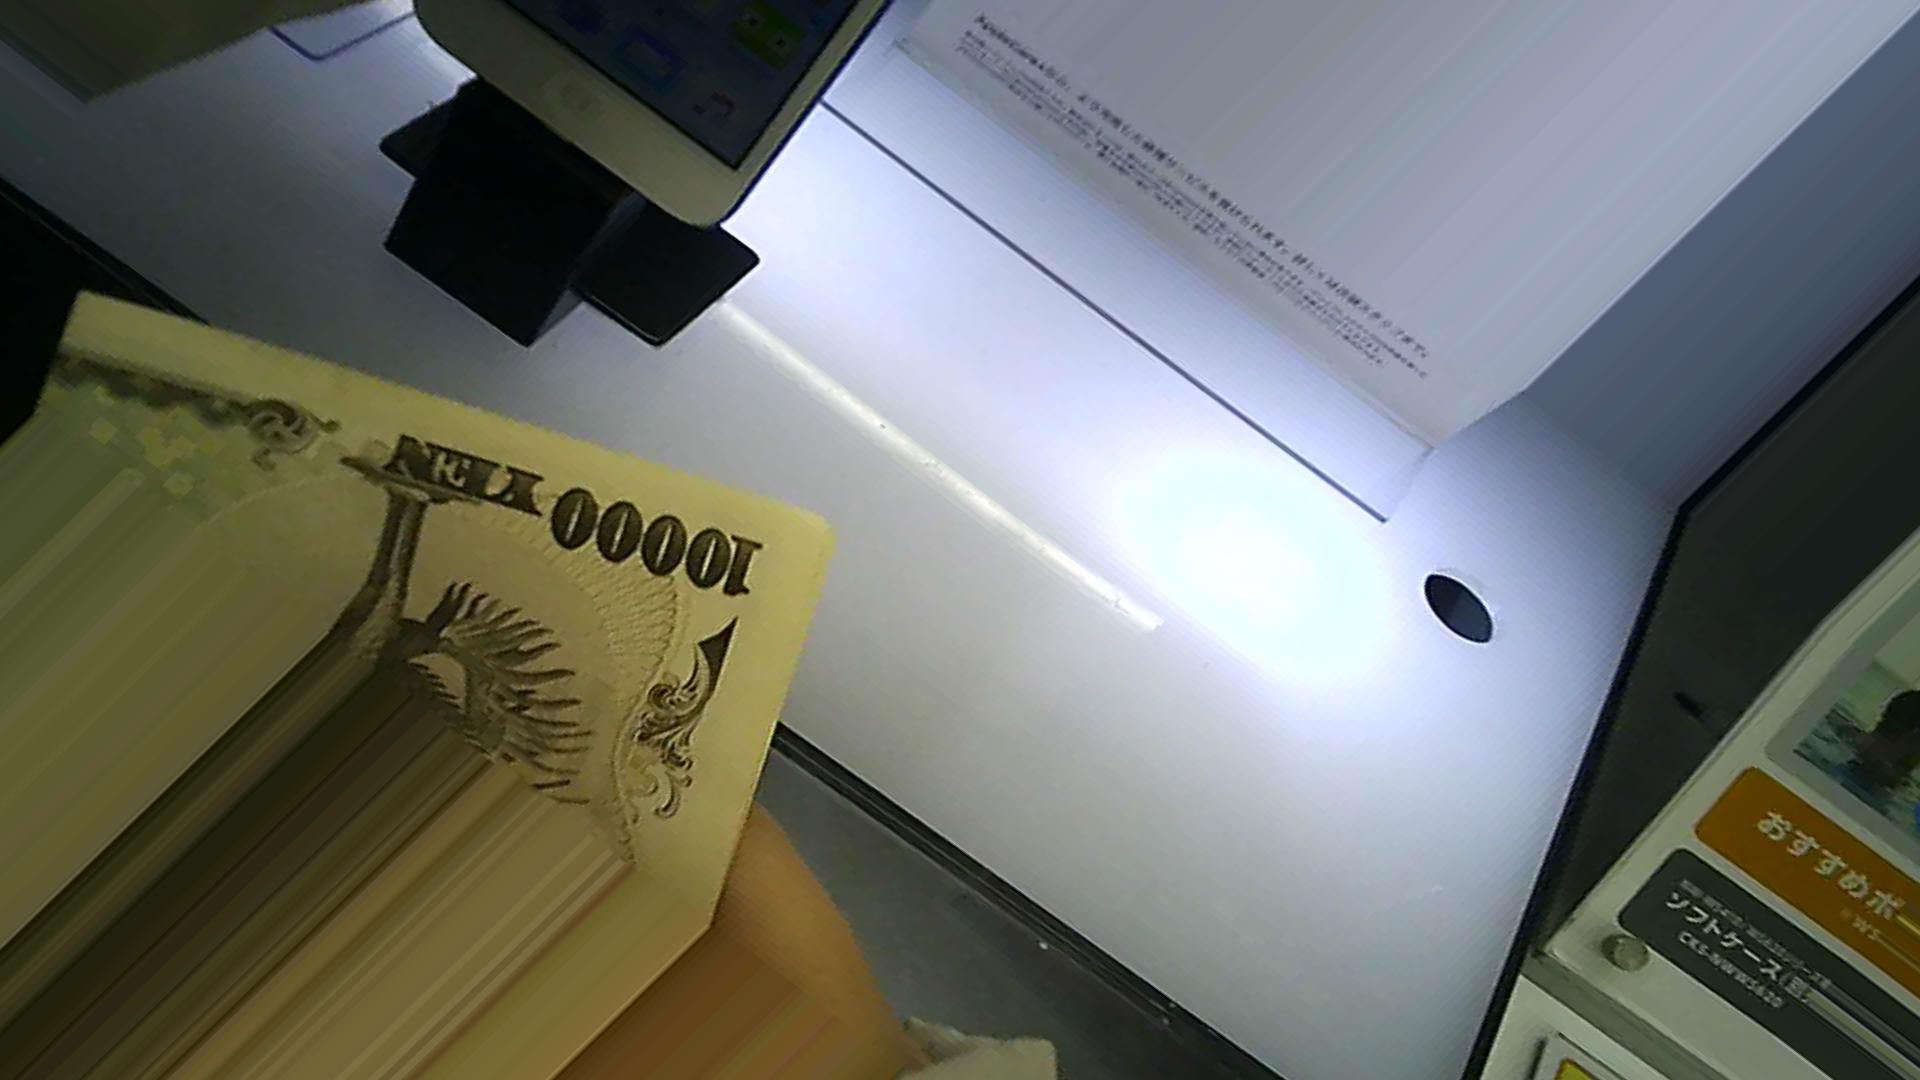10,000 Yen: (21, 260, 823, 928)
